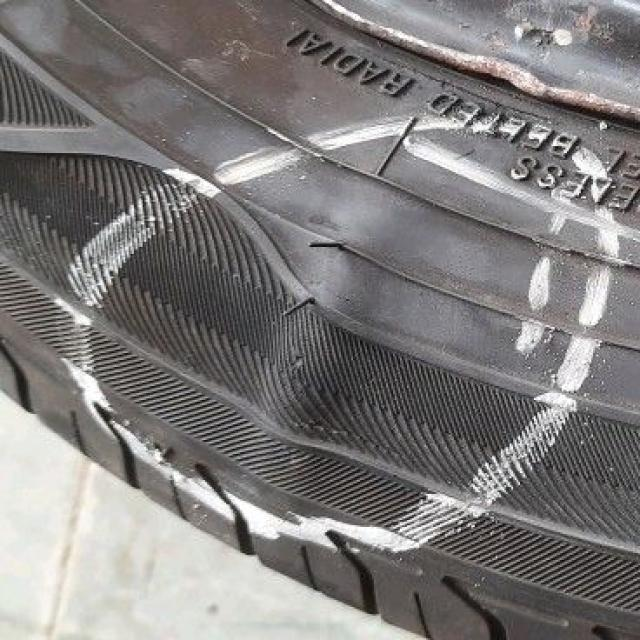Bulge: (232, 192, 390, 472)
